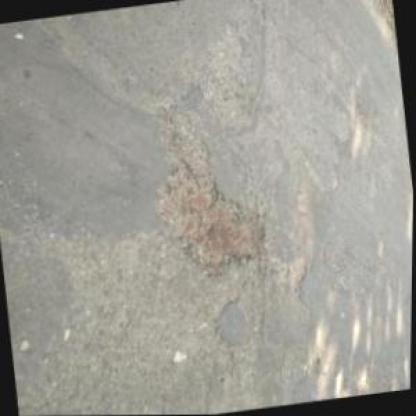pothole: (152, 156, 276, 284)
